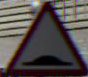Speed Breaker ahead: (9, 4, 75, 67)
